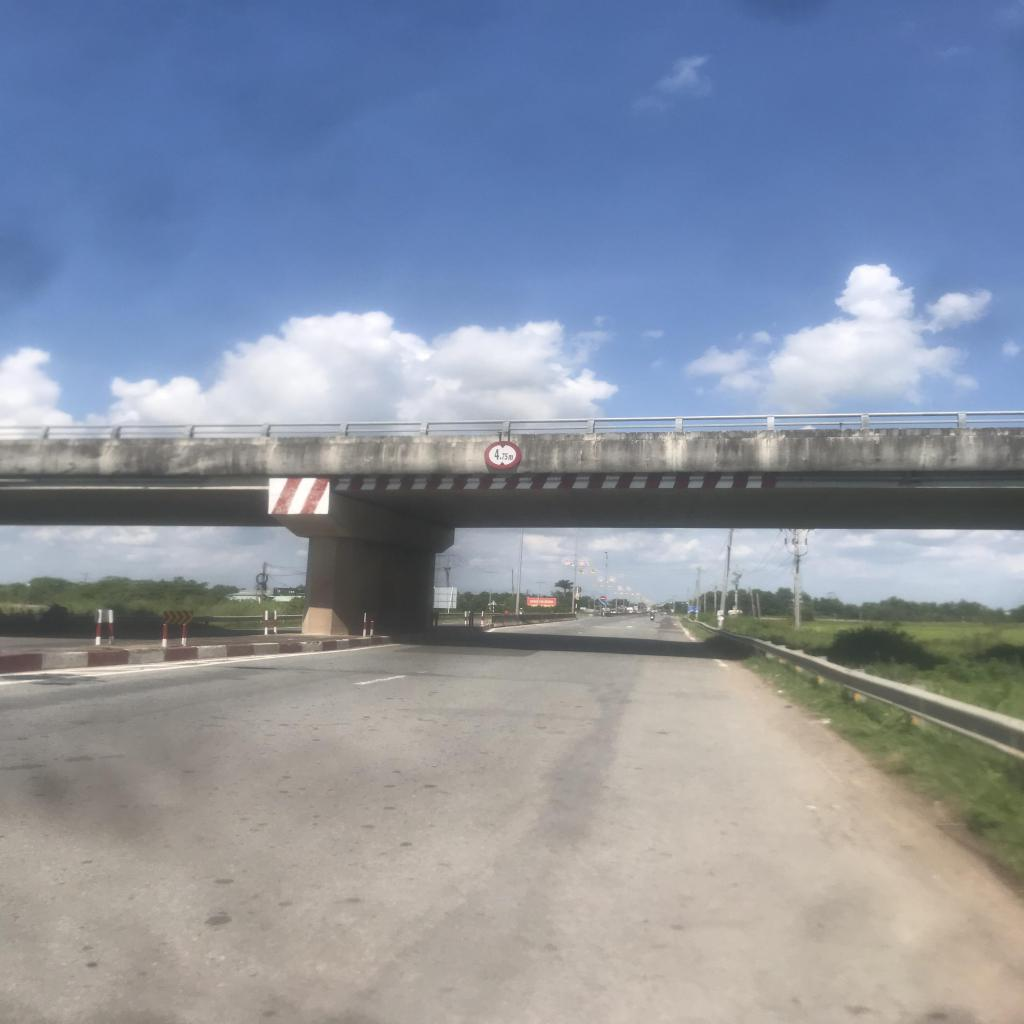han_che_chieu_cao: (484, 441, 520, 469)
